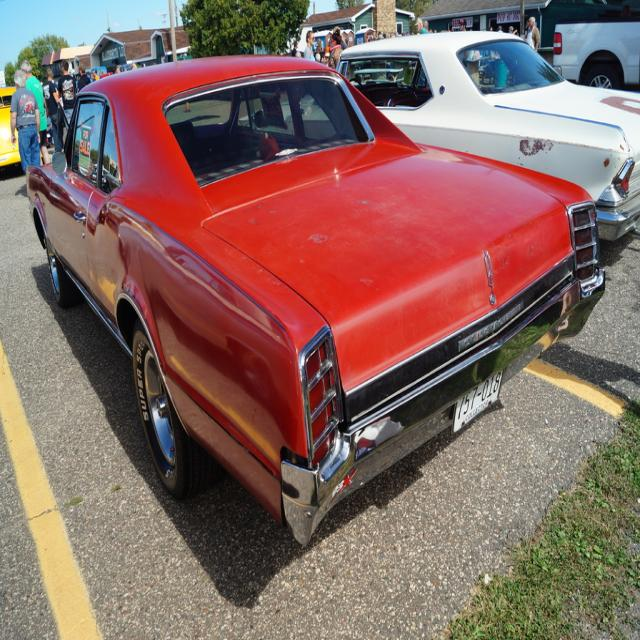car: (24, 47, 599, 541)
